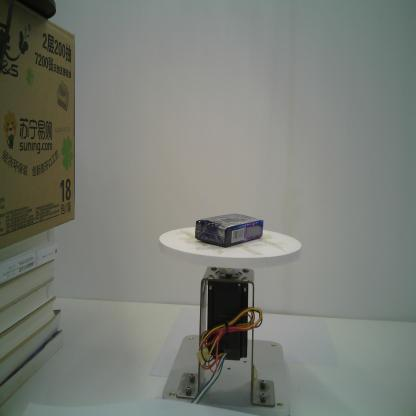Gum: (194, 213, 264, 249)
